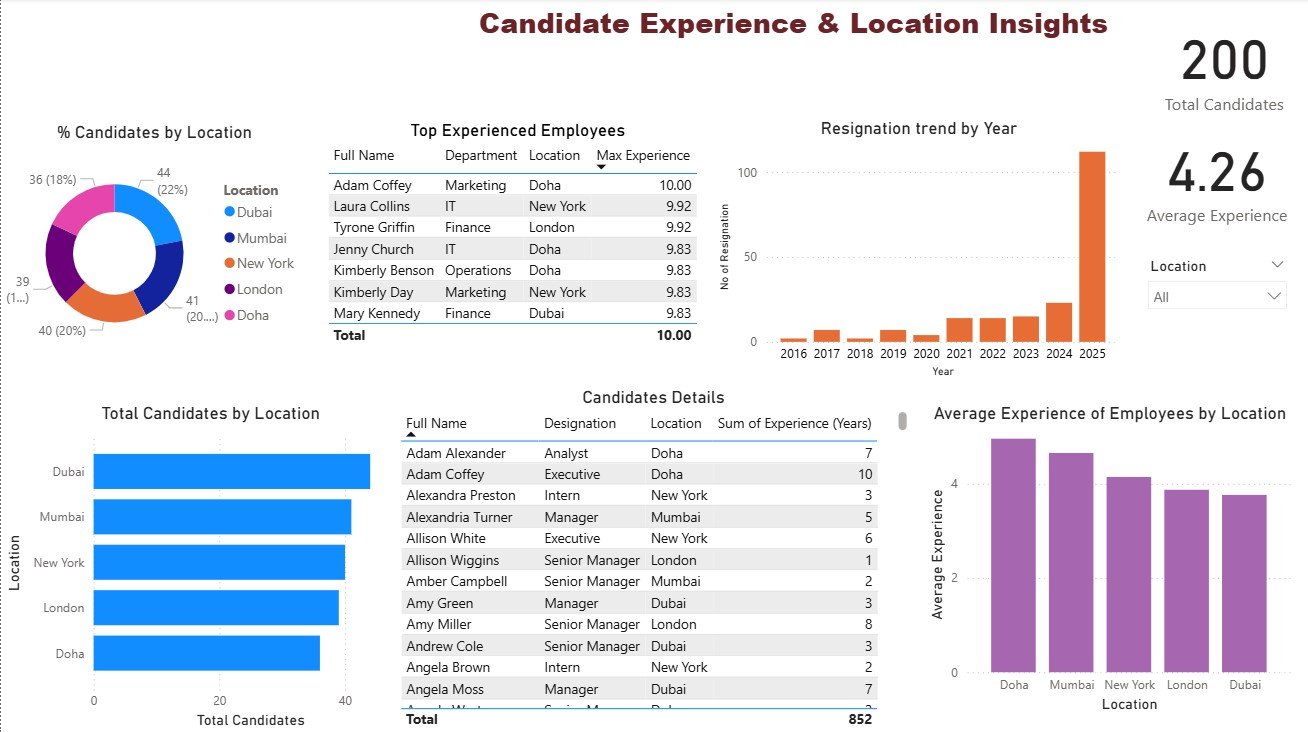

Layout of this report page (visuals, bound fields, positions):
{"tool":"powerbi","page":{"name":"Page 1","canvas":[1280,720],"ordinal":0},"visuals":[{"type":"barChart","fields":{"Category":["Sheet1.Location"],"Y":["Sheet1.Total Candidates"]},"box":[0,396.6,410.3,323.8],"z":0},{"type":"card","fields":{"Values":["Sheet1.Average Experience"]},"box":[1099.1,120.8,181.1,105.7],"z":1000},{"type":"tableEx","title":"Candidates Details","fields":{"Values":["Sheet1.Full Name","Sheet1.Designation","Sheet1.Location","Sheet1.Experience (Years)"]},"box":[385.6,380.1,506.3,340.3],"z":2000},{"type":"slicer","fields":{"Values":["Sheet1.Location"]},"box":[1111.5,248.4,156.4,131.7],"z":3000},{"type":"clusteredColumnChart","title":"Average Experience of Employees  by Location","fields":{"Category":["Sheet1.Location"],"Y":["Sheet1.Average Experience"]},"box":[902.9,396.6,365,307.4],"z":4000},{"type":"donutChart","title":"% Candidates by Location","fields":{"Y":["Sheet1.Total Candidates"],"Category":["Sheet1.Location"]},"box":[0,120.8,300.5,238.8],"z":5000},{"type":"tableEx","title":"Top Experienced Employees","fields":{"Values":["Sheet1.Full Name","Sheet1.Department","Sheet1.Location","Sheet1.Max Experience"]},"box":[314.2,118,382.8,259.3],"z":6000},{"type":"textbox","box":[410.3,0,736.9,43.9],"z":7000},{"type":"card","fields":{"Values":["Sheet1.Total Candidates"]},"box":[1114.2,0,166,129],"z":8000},{"type":"scatterChart","fields":{"Y":["Sheet1.Experience (Years)"],"X":["Sheet1.Performance Rating"],"Size":["Sheet1.Goals Achieved (%)"],"Category":["Sheet1.Manager Feedback"],"Series":["Sheet1.Department"]},"box":[697.1,75.5,417.2,301.9],"z":8001}]}

Visuals, with their boxes in screenshot pixels (x1, y1, x2, y2), scaled from the page's 1280x720 canvas onto the 1308x732 screenshot:
barChart - Sheet1.Location x Sheet1.Total Candidates: Rect(0, 403, 419, 731)
card - Sheet1.Average Experience: Rect(1123, 123, 1307, 230)
"Candidates Details" tableEx: Rect(394, 386, 911, 731)
slicer - Sheet1.Location: Rect(1136, 253, 1296, 386)
"Average Experience of Employees  by Location" clusteredColumnChart: Rect(923, 403, 1296, 716)
"% Candidates by Location" donutChart: Rect(0, 123, 307, 366)
"Top Experienced Employees" tableEx: Rect(321, 120, 712, 384)
textbox: Rect(419, 0, 1172, 45)
card - Sheet1.Total Candidates: Rect(1139, 0, 1307, 131)
scatterChart - Sheet1.Experience (Years) x Sheet1.Performance Rating: Rect(712, 77, 1139, 384)
